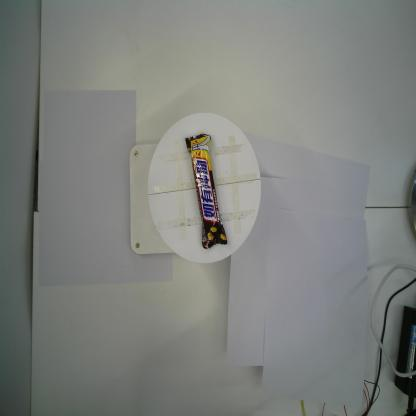Chocolate: (185, 134, 228, 248)
